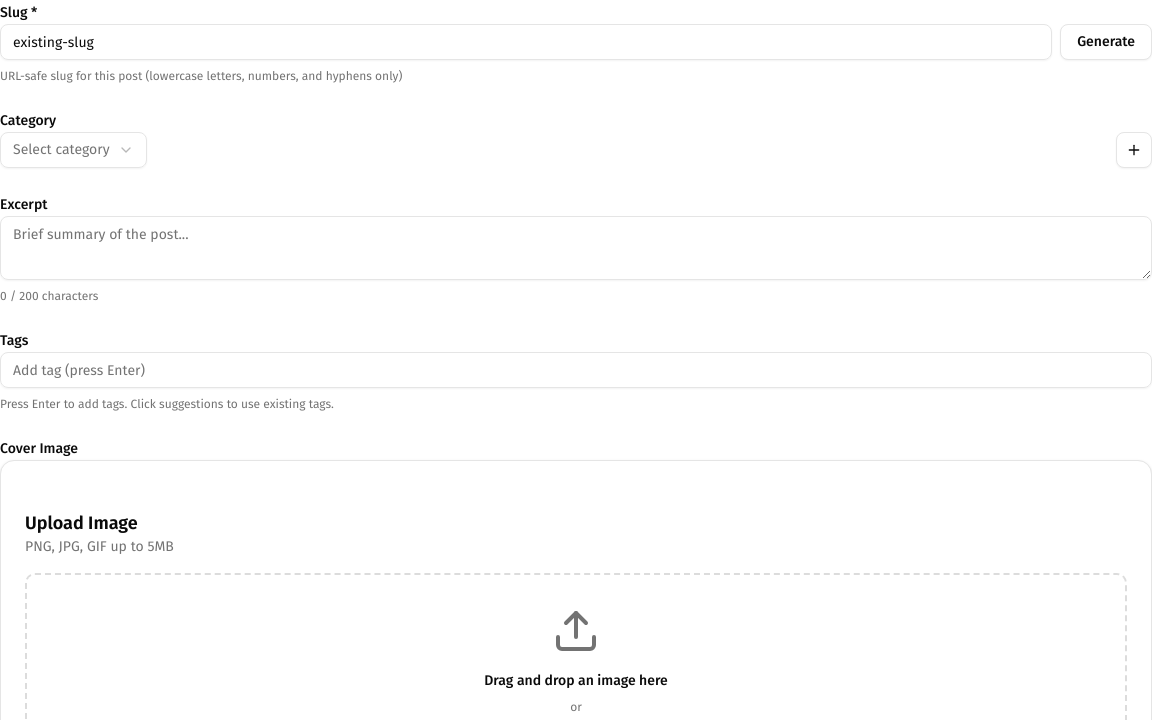
Test: BlogPostMetadata › Slug Auto-Generation › should not overwrite existing slug without confirmation
Click the button "Generate".
click(1106, 42)  # box [1060, 24, 1151, 60]
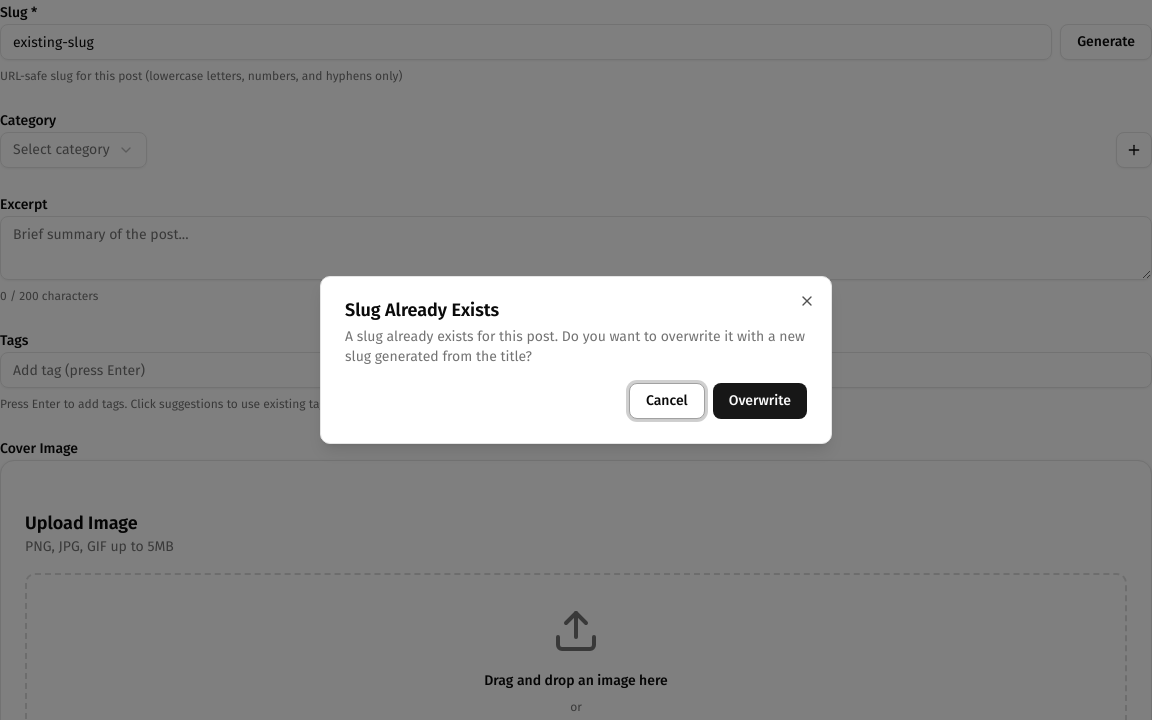
Expected: the heading "Slug Already Exists" is shown, [345, 299, 499, 321]
